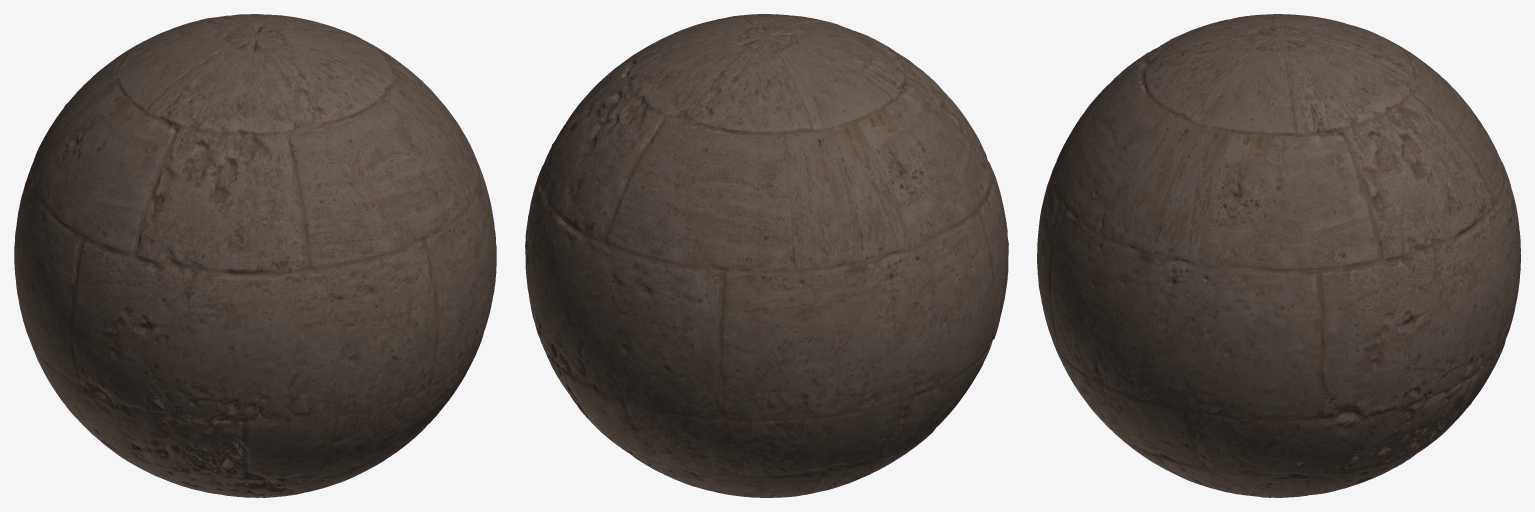
Rendered from stone_wall_02_2k.gltf.
3 views of the same model, side by side, from view 1: azimuth 30°, elevation 25°; view 2: azimuth 150°, elevation 25°; view 3: azimuth 270°, elevation 25° (orthographic).
Visible parts, largest first — view 1: sphere_gltf; view 2: sphere_gltf; view 3: sphere_gltf.
Boxes of the visible parts, x1,y1,x2,y2 form: sphere_gltf: [14, 14, 496, 497]; sphere_gltf: [525, 14, 1008, 497]; sphere_gltf: [1037, 14, 1520, 497].
Size of the model in its own units: 2.04 by 2.04 by 2.04.
Materials: 1 (1 with a texture image).
